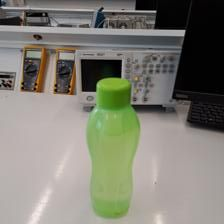bottle: (83, 76, 142, 218)
